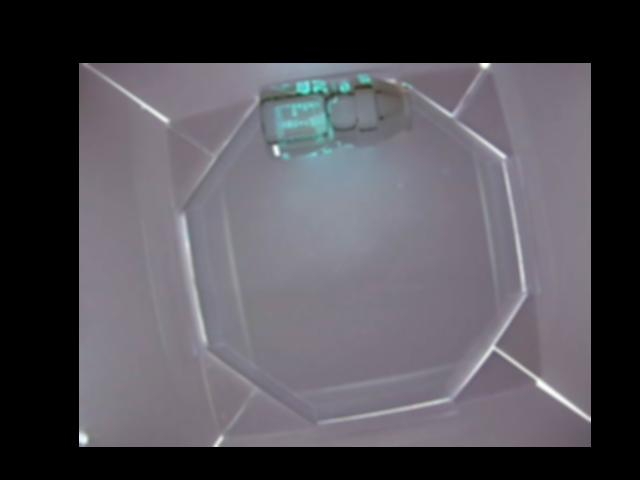Bottle: (257, 73, 415, 158)
